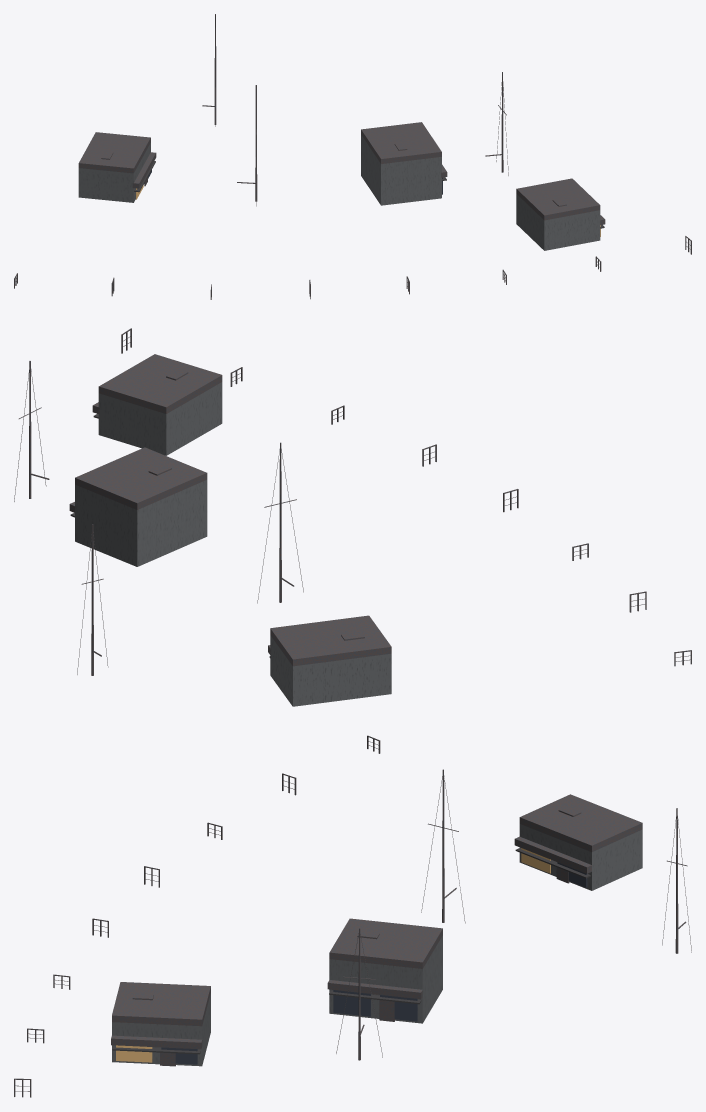
File: SM_City_AlHilal_5.fbx
The picture shows the model from 3 angles, top to bottom: view 1: azimuth 30°, elevation 25°; view 2: azimuth 150°, elevation 25°; view 3: azimuth 270°, elevation 25°; orthographic projection. The views are drawn at different scales.
Visible parts, largest first — view 1: SM_City_AlHilal_5; view 2: SM_City_AlHilal_5; view 3: SM_City_AlHilal_5.
Part boxes in pixels (left/top/right/bottom): SM_City_AlHilal_5: left=14, top=14, right=691, bottom=299; SM_City_AlHilal_5: left=14, top=328, right=691, bottom=706; SM_City_AlHilal_5: left=14, top=735, right=691, bottom=1097.
Size of the model in its own units: 5717 by 1167 by 4695.
Materials: 5 (5 with a texture image).
